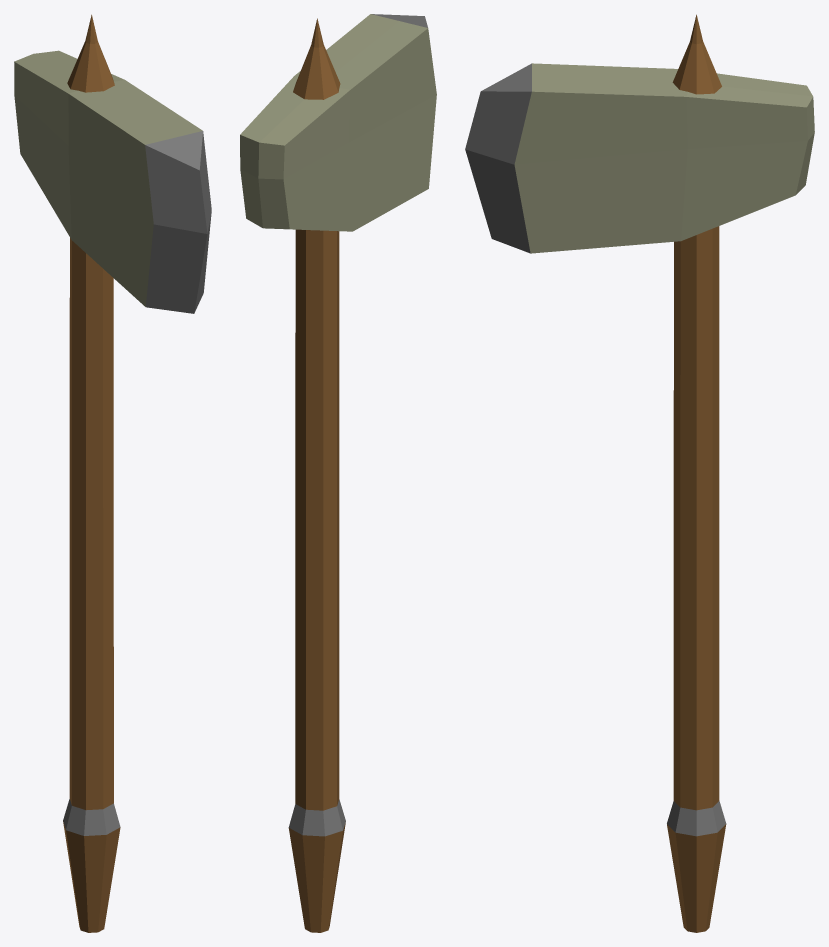
The model's file is Axe44.glb.
The picture shows the model from 3 angles, left to right: view 1: azimuth 30°, elevation 25°; view 2: azimuth 150°, elevation 25°; view 3: azimuth 270°, elevation 25°; orthographic projection.
Visible parts, largest first — view 1: weapon_generator; view 2: weapon_generator; view 3: weapon_generator.
Part boxes in pixels (x1=…): weapon_generator: x1=14, y1=14, x2=211, y2=932; weapon_generator: x1=240, y1=14, x2=436, y2=932; weapon_generator: x1=465, y1=14, x2=814, y2=932.
Size of the model in its own units: 0.0765 by 1.15 by 0.3997.
